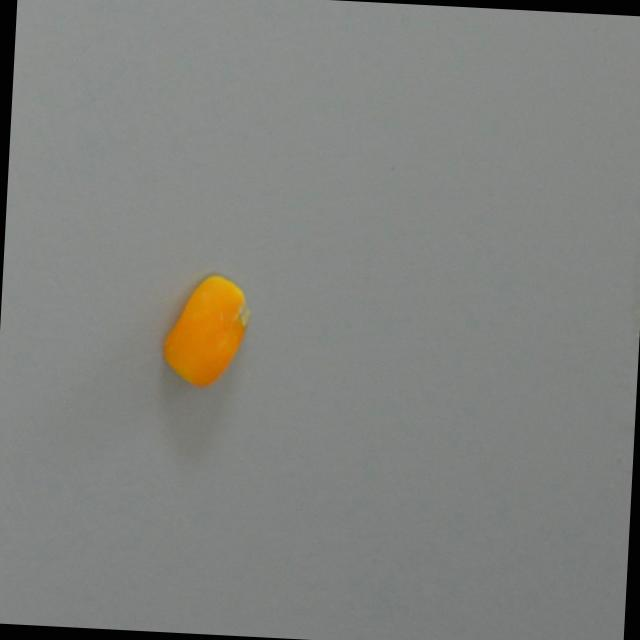dañado: (150, 268, 265, 396)
